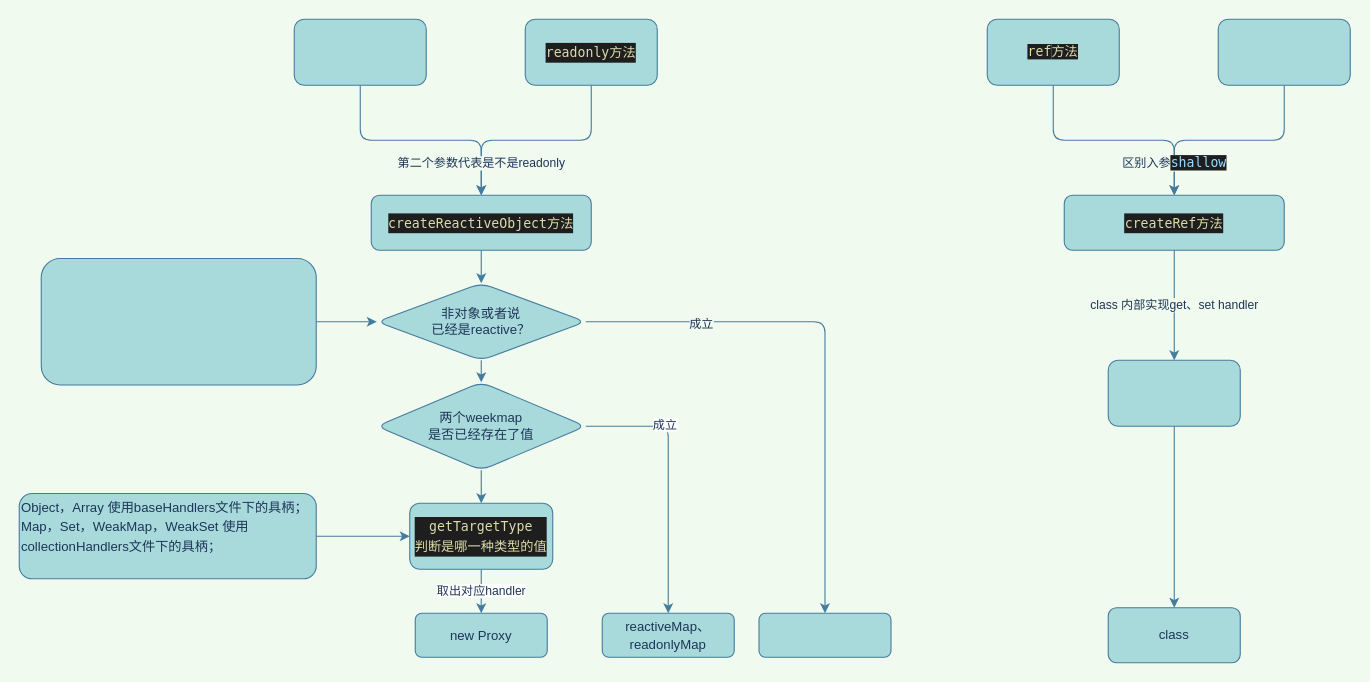
The diagram is 1370 pixels wide and 682 high, and some of its shapes have lost their labels. The shapes that lost their labels are listed below. From the top down, each one's box as (x1, y1, x2, y2) in pixels, then its label:
(293, 18, 426, 85): reactive方法
(1217, 18, 1350, 85): shallowRef 方法
(40, 257, 316, 385): 这里有一个特殊的情况，既是readOnly优势reacvite，这时不会直接返回而是走下面的缓存map返回
(1107, 359, 1240, 426): new RefImpl
(758, 612, 891, 657): target
